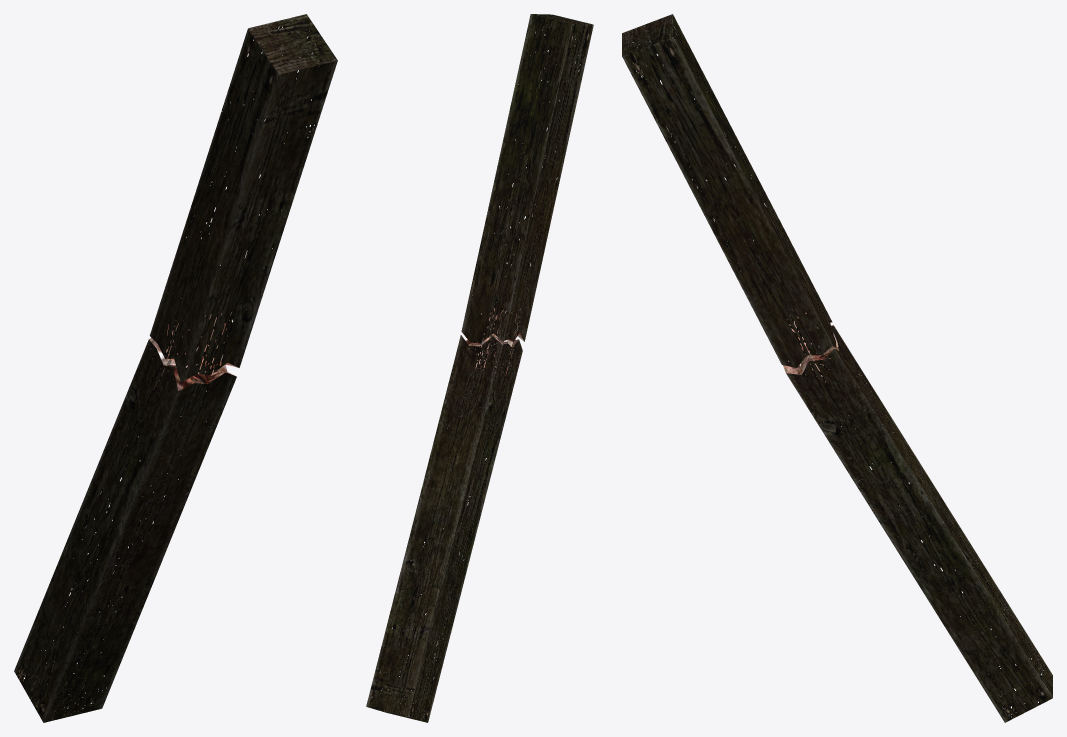
Rendered from cell_breakable_wall_support.dae.
3 renders of one model, left to right at view 1: azimuth 30°, elevation 25°; view 2: azimuth 150°, elevation 25°; view 3: azimuth 270°, elevation 25°, orthographic. The views are drawn at different scales.
Visible parts, largest first — view 1: bottom_log, top_log, polySurface5; view 2: bottom_log, top_log; view 3: bottom_log, top_log.
Part boxes in pixels (box(x1,y1,x2,y2)): bottom_log: box(14, 339, 236, 722); top_log: box(149, 14, 337, 382); polySurface5: box(149, 338, 235, 390); bottom_log: box(366, 335, 522, 722); top_log: box(461, 14, 593, 343); bottom_log: box(786, 325, 1052, 722); top_log: box(622, 14, 836, 367).
Bounding box in the file's own units: 0.2523 × 3.44 × 1.96.
